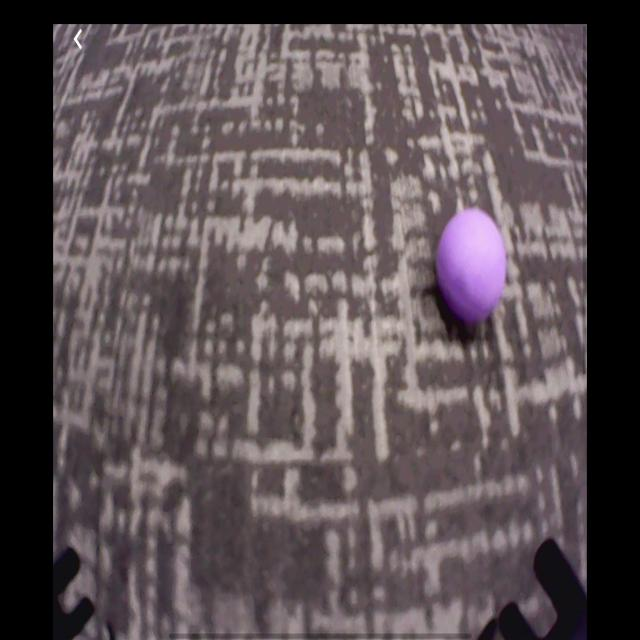ball: (438, 211, 508, 325)
